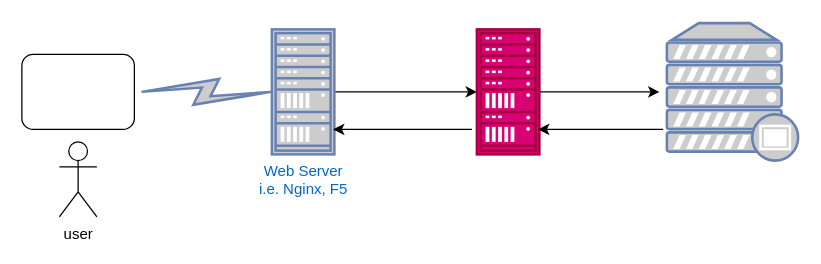
The diagram is 821 pixels wide and 264 high, and some of its shapes have lost their labels. The shapes that lost their labels are listed below. From the top down, each one's centre as x and y in pixels, then its label:
pixel 77 91: Browser Client
pixel 732 91: APP Server i.e. WAS, Weblogic
